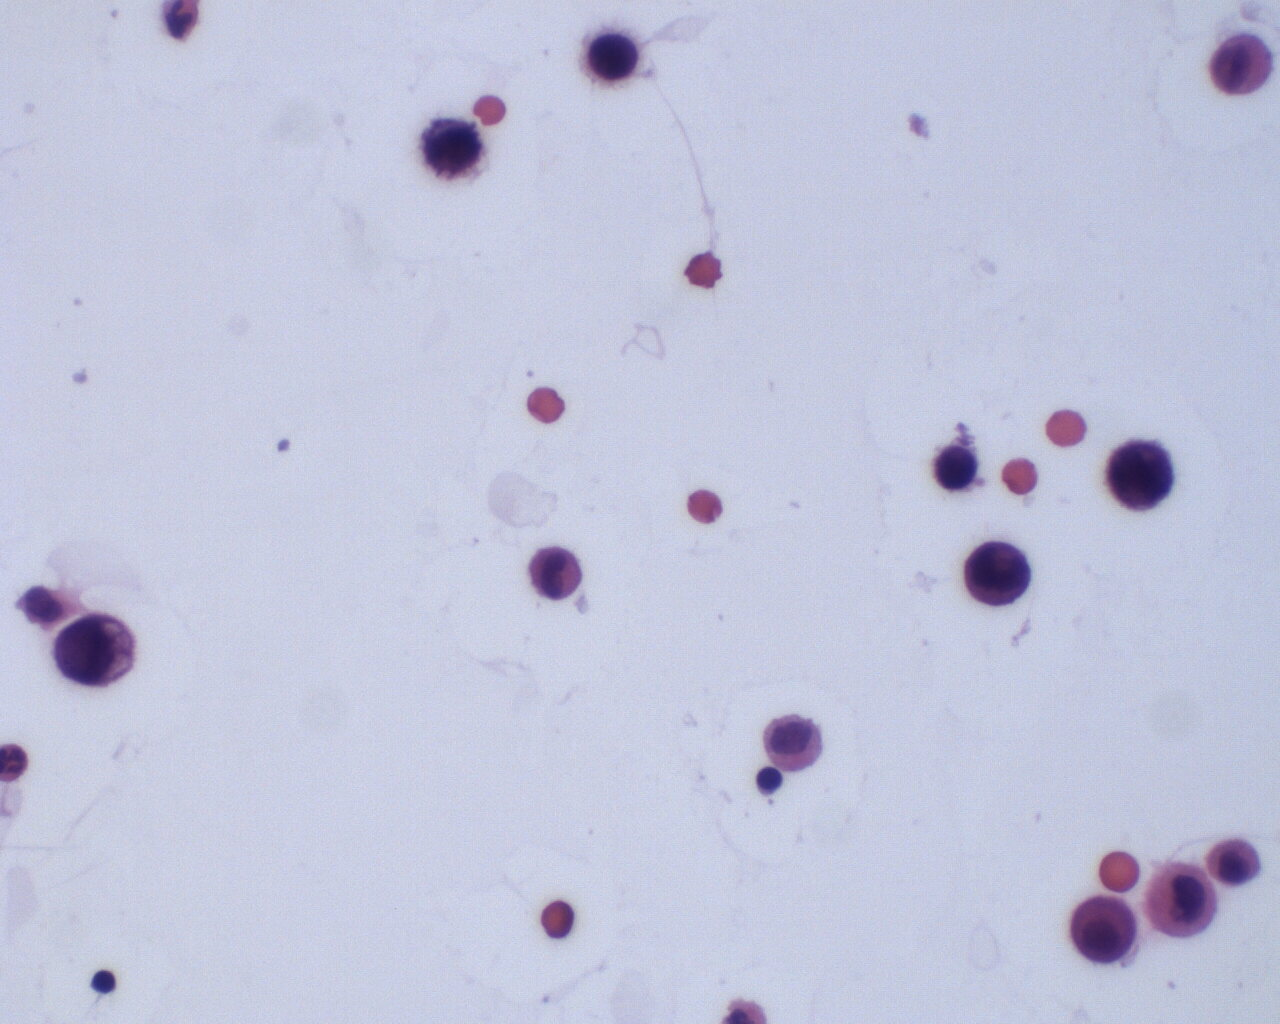ab: (48, 609, 136, 693), (1098, 433, 1179, 517), (964, 535, 1035, 618), (422, 115, 484, 178), (584, 28, 641, 87)
lymph: (751, 762, 784, 794)
meso: (1141, 860, 1221, 944), (1065, 890, 1146, 970), (1206, 837, 1263, 888)
